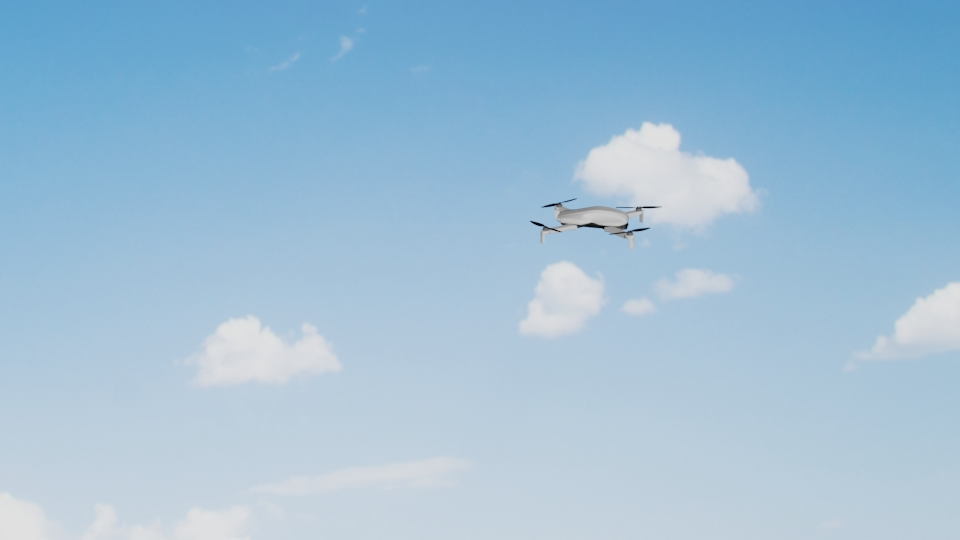drone: (532, 201, 662, 247)
